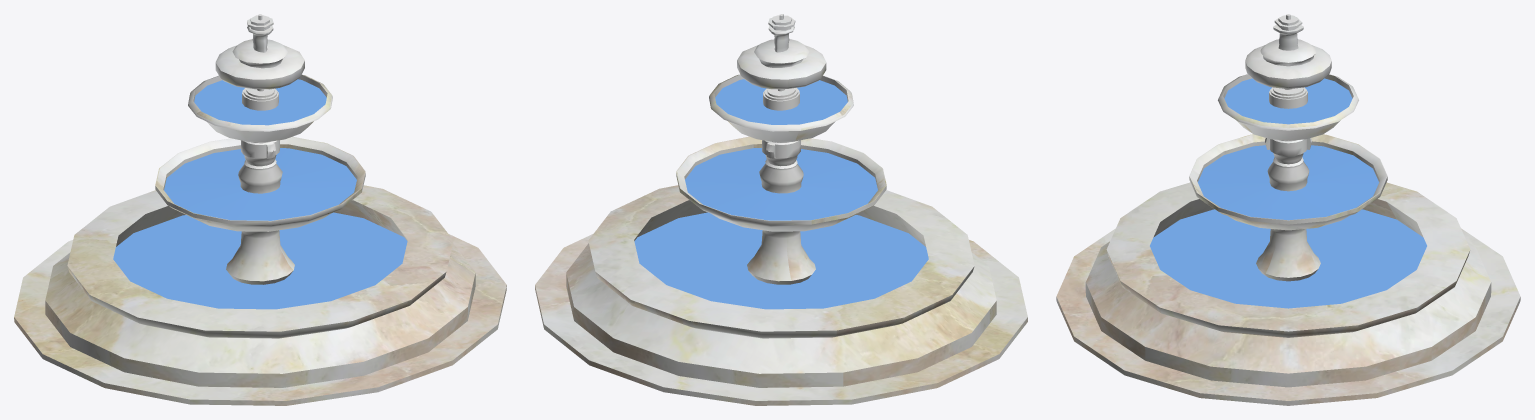
File: FuenteDeAgua.fbx
3 views of the same model, side by side, from view 1: azimuth 30°, elevation 25°; view 2: azimuth 150°, elevation 25°; view 3: azimuth 270°, elevation 25° (orthographic).
Visible parts, largest first — view 1: Circle.002; view 2: Circle.002; view 3: Circle.002.
Boxes of the visible parts, left/top/right/bottom form: Circle.002: left=14, top=14, right=506, bottom=405; Circle.002: left=535, top=14, right=1027, bottom=405; Circle.002: left=1056, top=14, right=1520, bottom=405.
Bounding box in the file's own units: 625 × 400 × 586.
2 materials, 2 textured.
